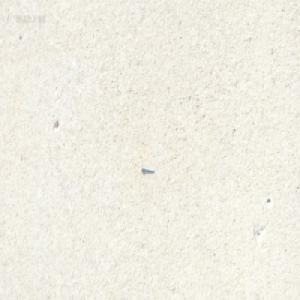Nail: (140, 164, 153, 173)
